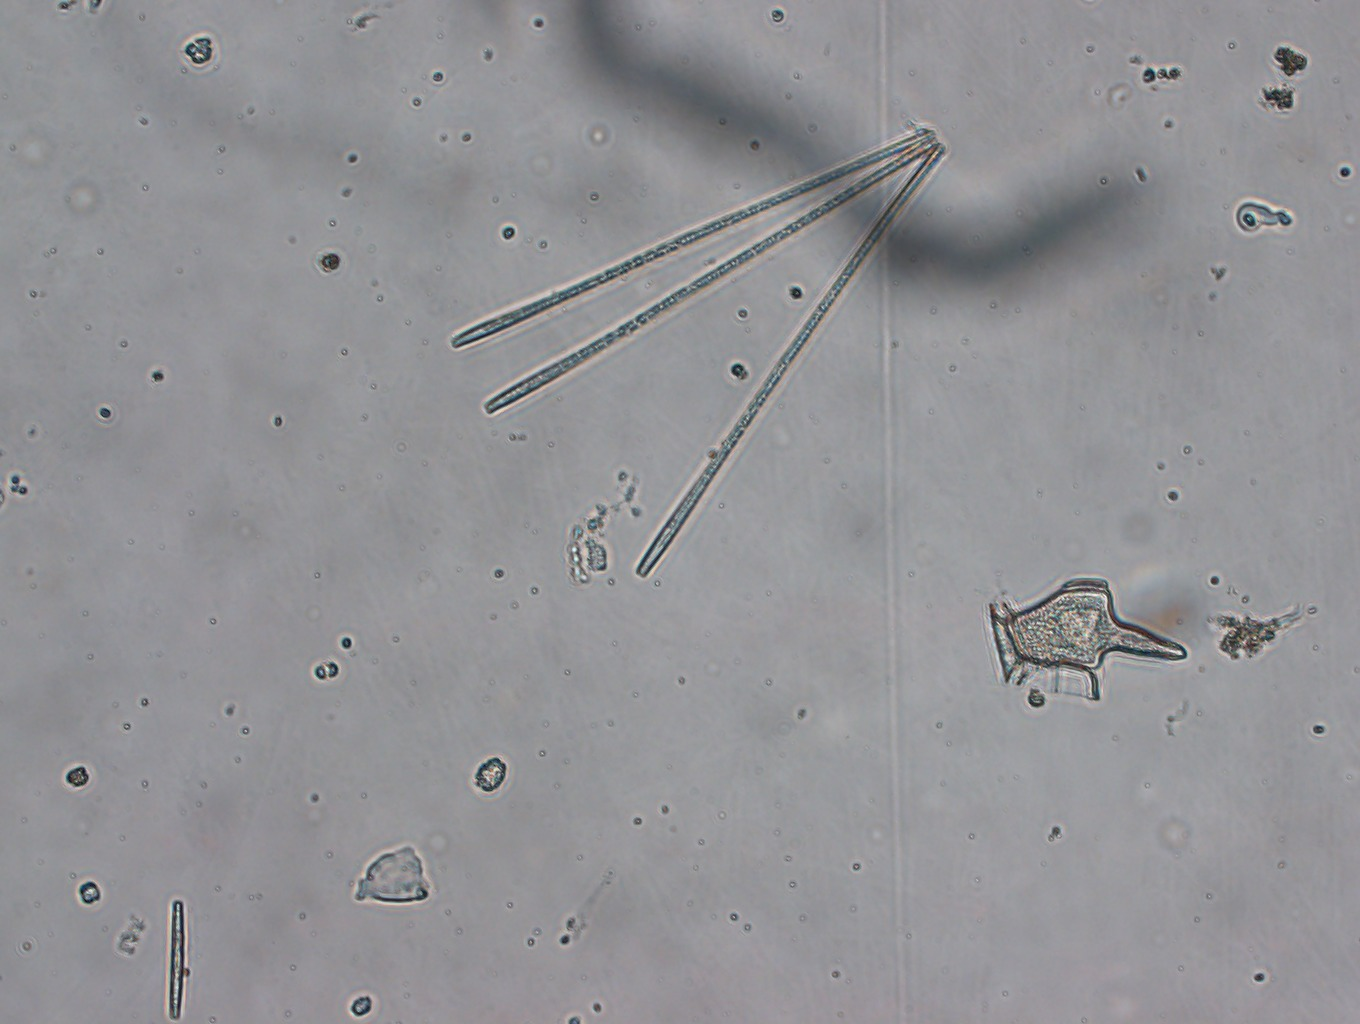dinophysis caudata: (974, 571, 1200, 712)
thalassionema frauenfeldii: (442, 113, 954, 581)
